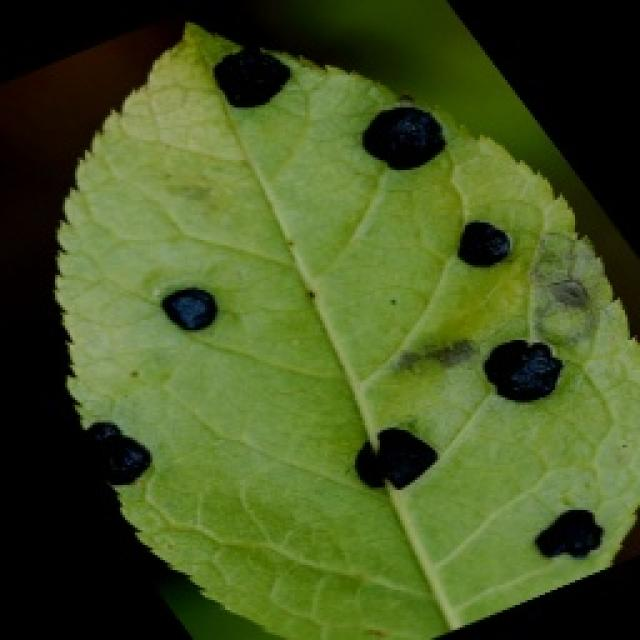Tar_Spot: (50, 18, 638, 638)
